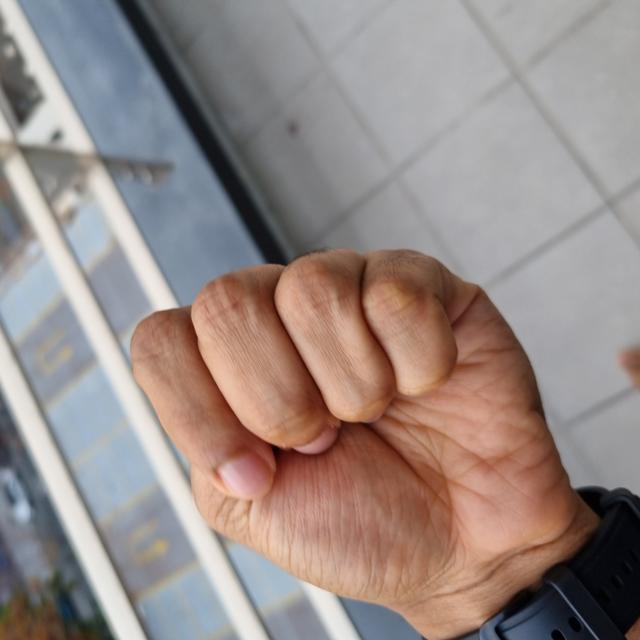Rock: (1, 153, 386, 581)
